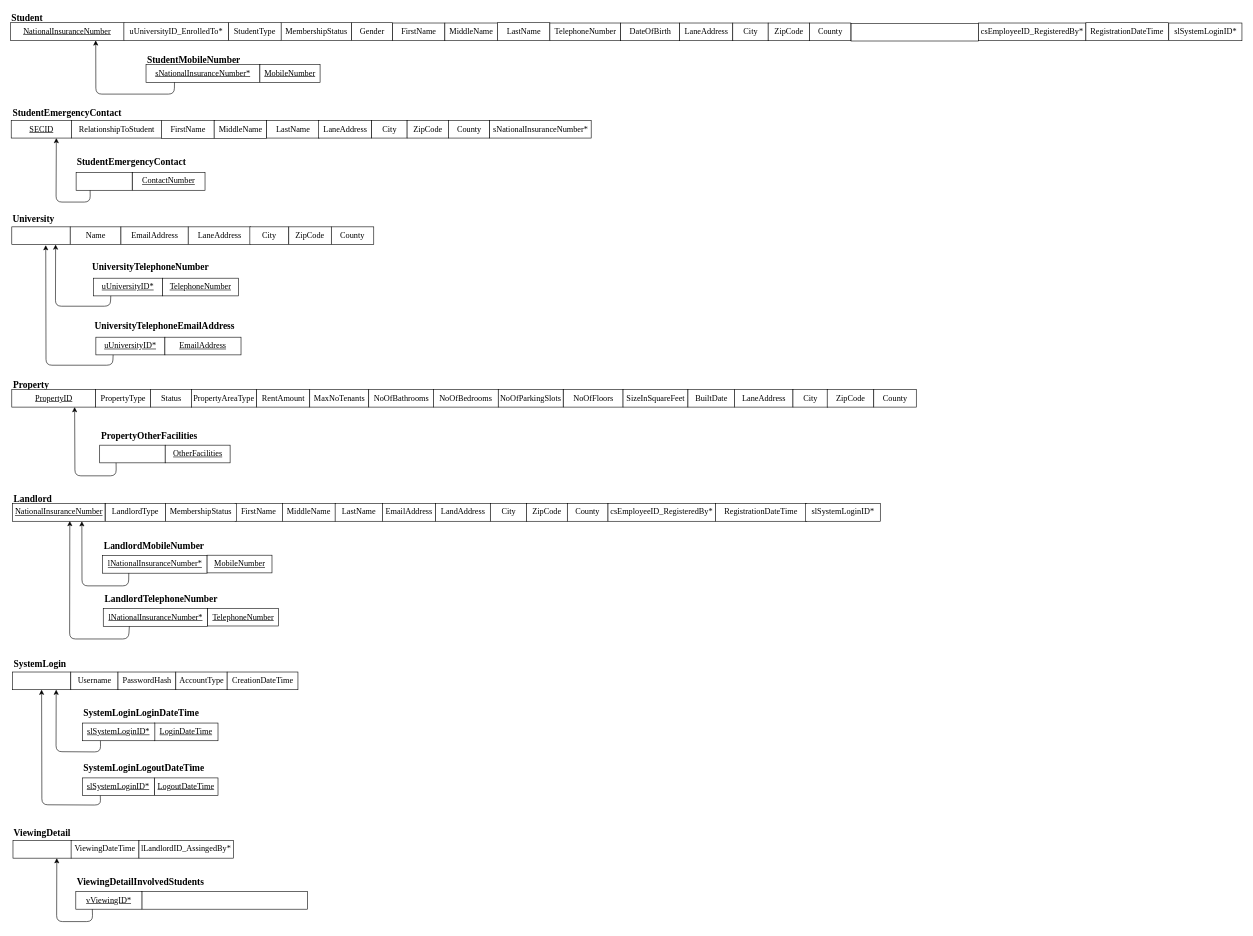
The diagram is 1253 pixels wide and 936 high, and some of its shapes have lost their labels. Each missing label, with the box of its shape:
EstimatedProgramCompletionDate: (850, 23, 979, 41)
pPropertyID*: (99, 445, 165, 463)
secSECID*: (76, 172, 132, 190)
sNationalInsuranceNumber_InvolvedStudents *: (141, 891, 308, 909)
SystemLoginID: (12, 671, 71, 690)
UniversityID: (11, 226, 70, 245)
ViewingID: (12, 840, 71, 858)
